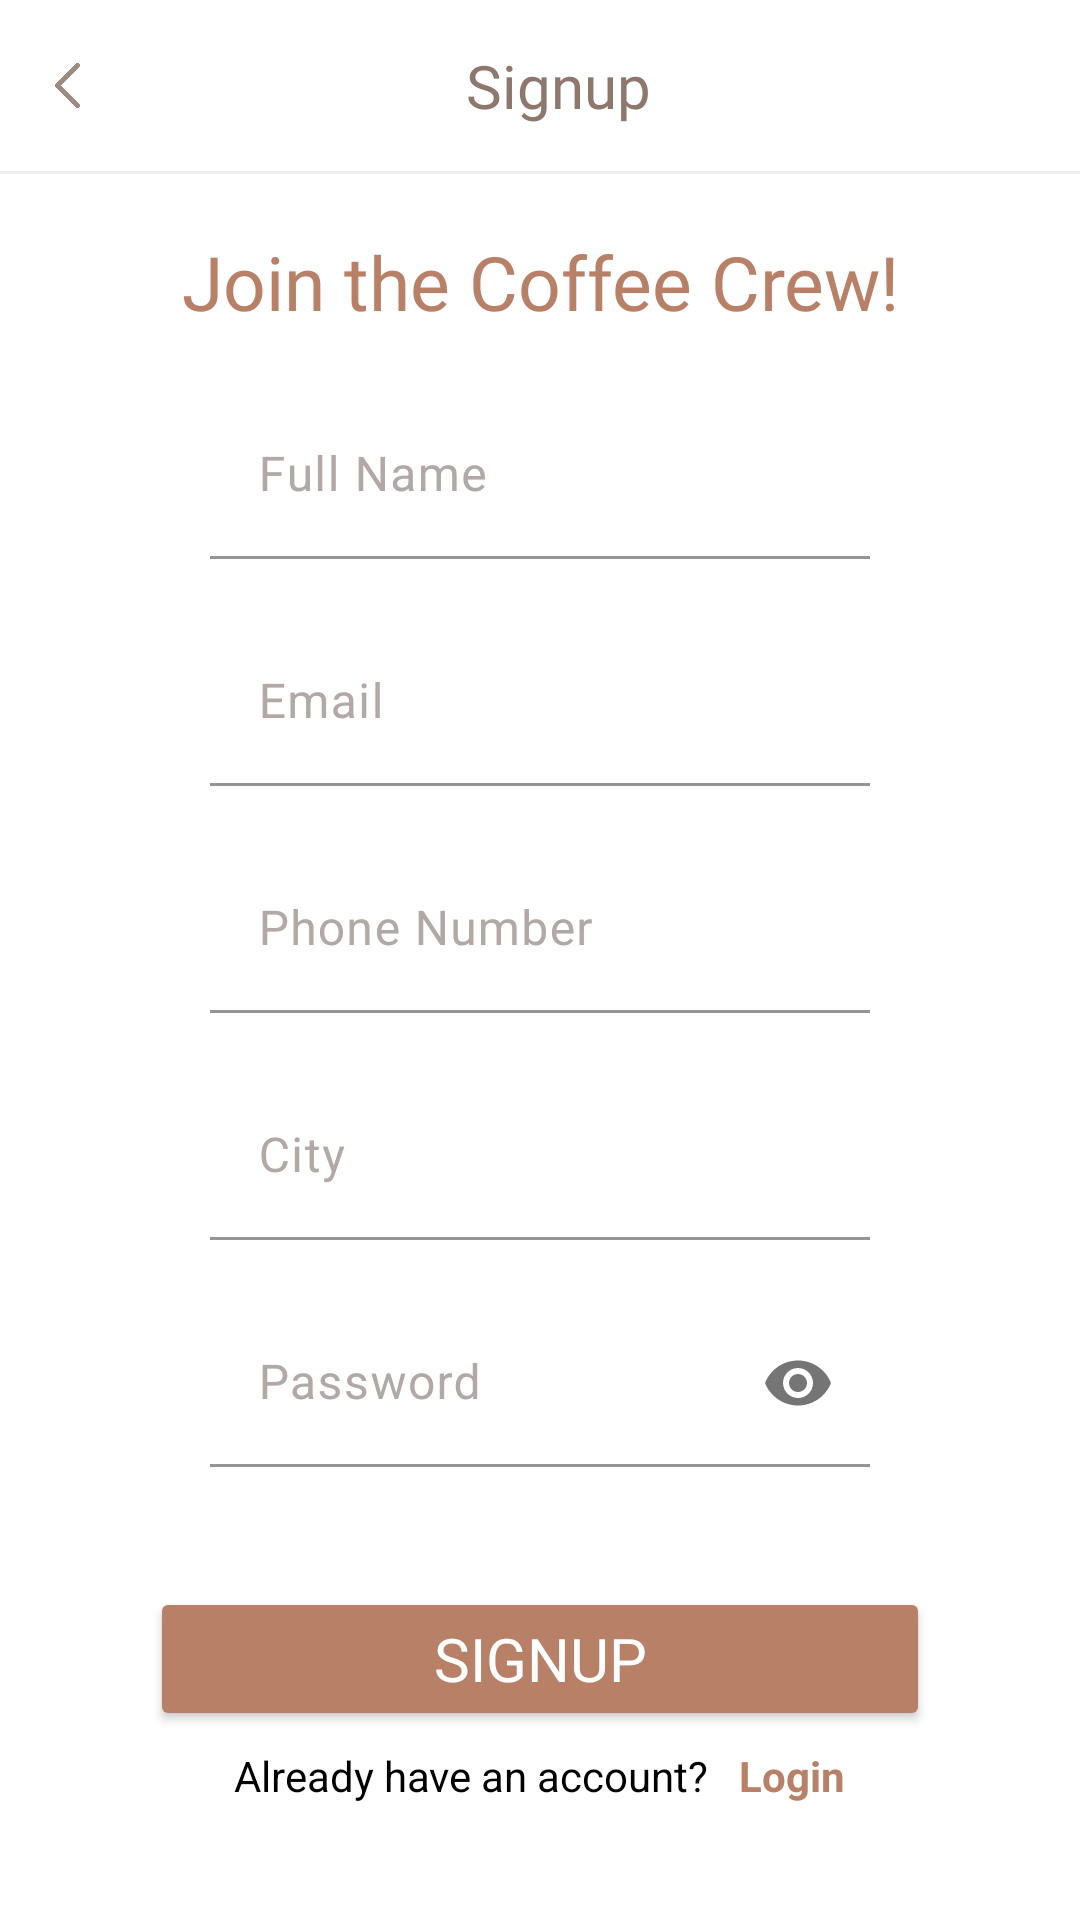

Point at icon controls on the screen. Image size 1080*1920, points as (x,y).
Back: (67,85)
